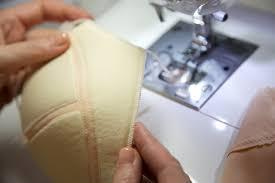Liquid: (0, 16, 180, 183)
